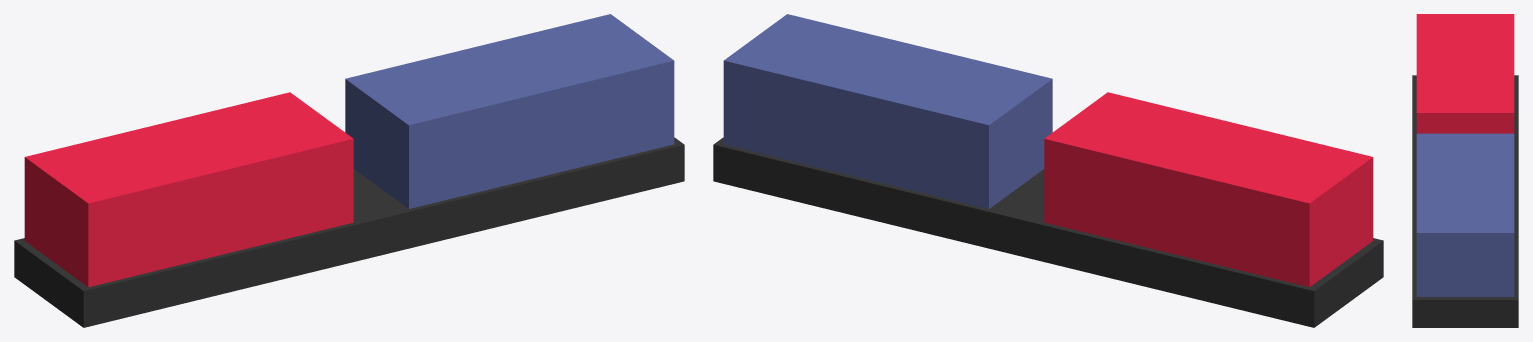
Rendered from PatrolLightbar.obj.
3 renders of one model, left to right at view 1: azimuth 30°, elevation 25°; view 2: azimuth 150°, elevation 25°; view 3: azimuth 270°, elevation 25°, orthographic. The views are drawn at different scales.
Parts seen in each view (by area): view 1: PatrolLightbar; view 2: PatrolLightbar; view 3: PatrolLightbar.
Part boxes in pixels (x1,y1,x2,y2): PatrolLightbar: [14, 14, 684, 327]; PatrolLightbar: [713, 14, 1383, 327]; PatrolLightbar: [1412, 14, 1518, 327].
Size of the model in its own units: 1.2 by 0.23 by 0.24.
Materials: 1 (1 with a texture image).
